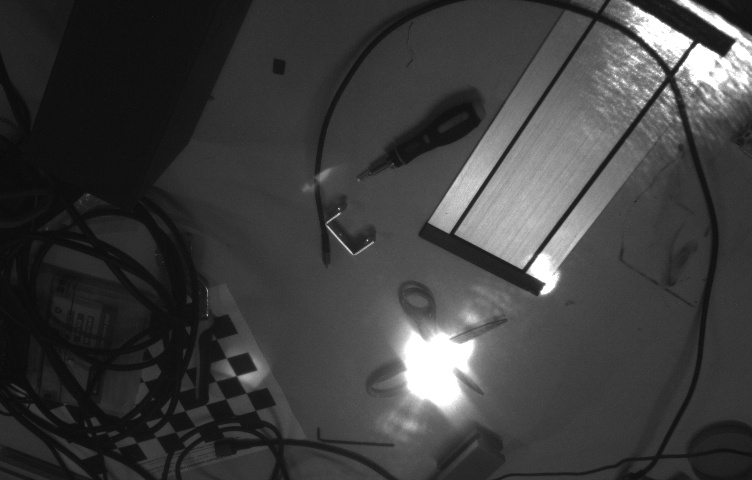Object scissors - Material plastic - Pdfname tYexGlkiIXWc: (406, 318, 461, 404)
